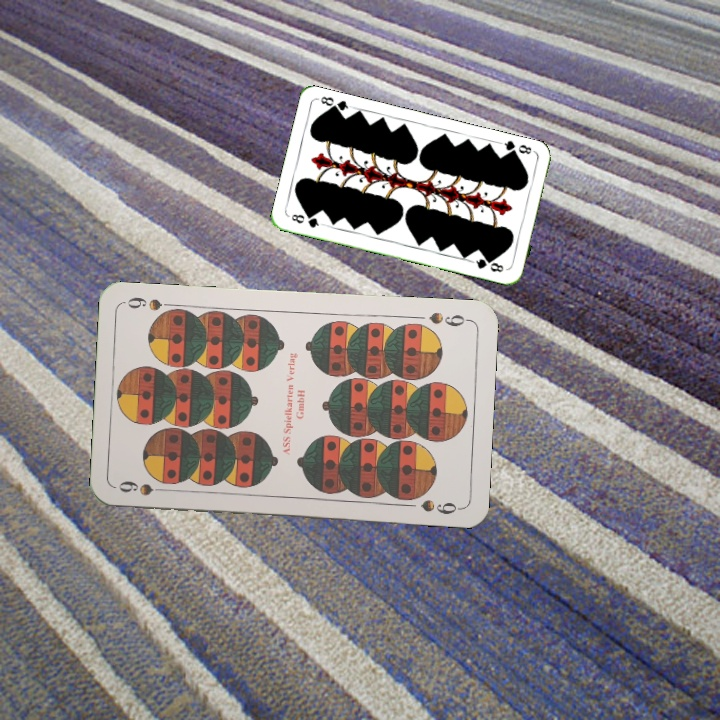G8: (497, 136, 537, 159), (287, 210, 326, 230)
S9: (114, 477, 173, 498), (425, 308, 472, 330)
